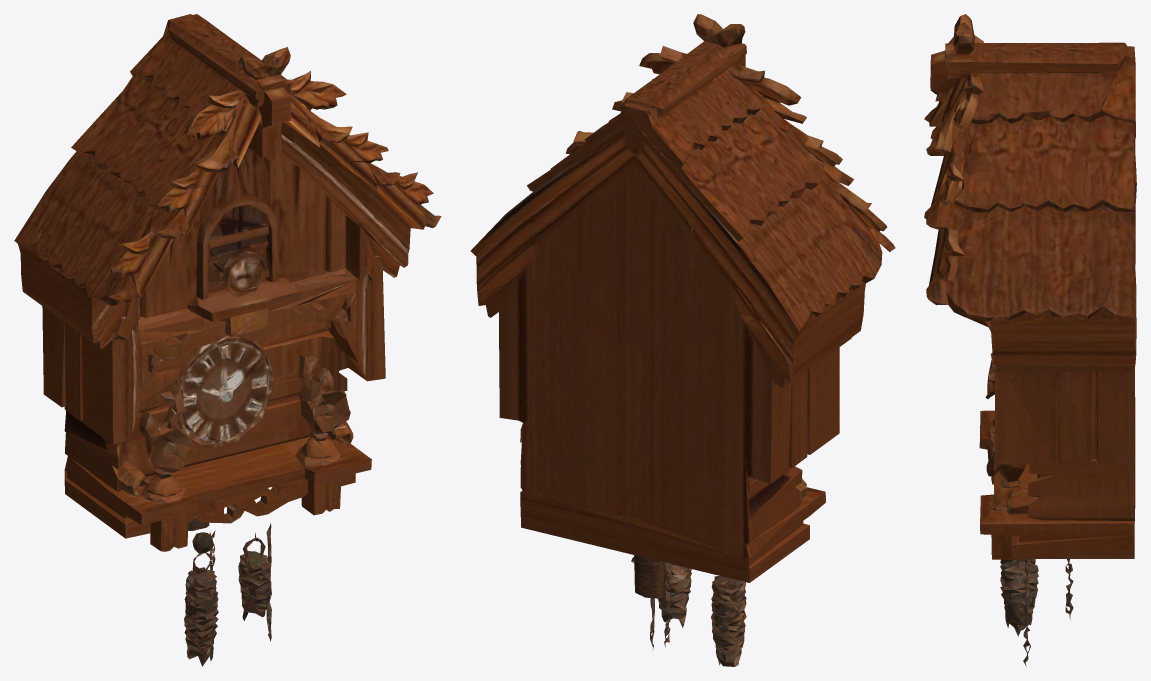
Rendered from cuckoo_clock.glb.
3 views of the same model, side by side, from view 1: azimuth 30°, elevation 25°; view 2: azimuth 150°, elevation 25°; view 3: azimuth 270°, elevation 25° (orthographic).
Bounding box in the file's own units: 1.06 × 1.89 × 0.5831.
1 material, 1 textured.
